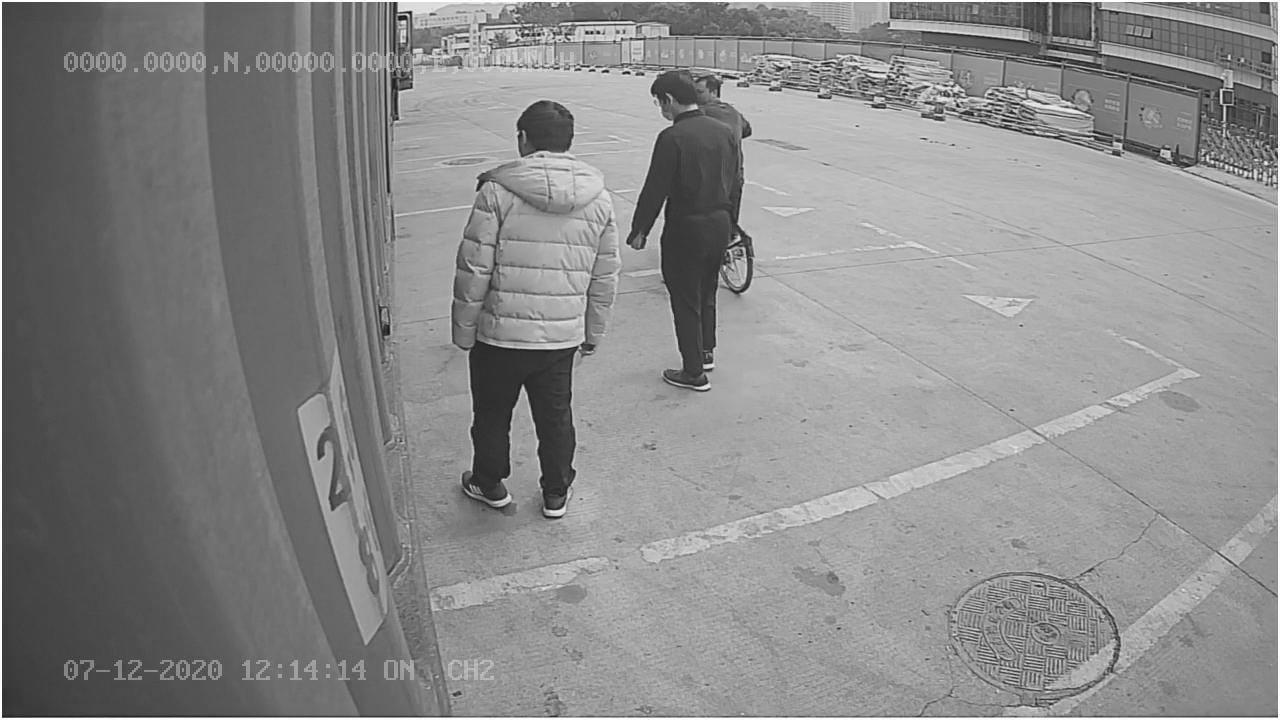person: (449, 97, 625, 520)
